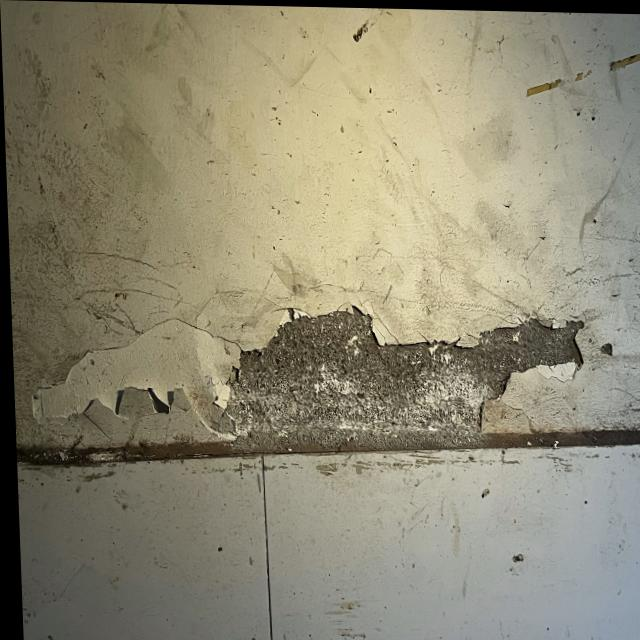spalling: (27, 290, 603, 456)
